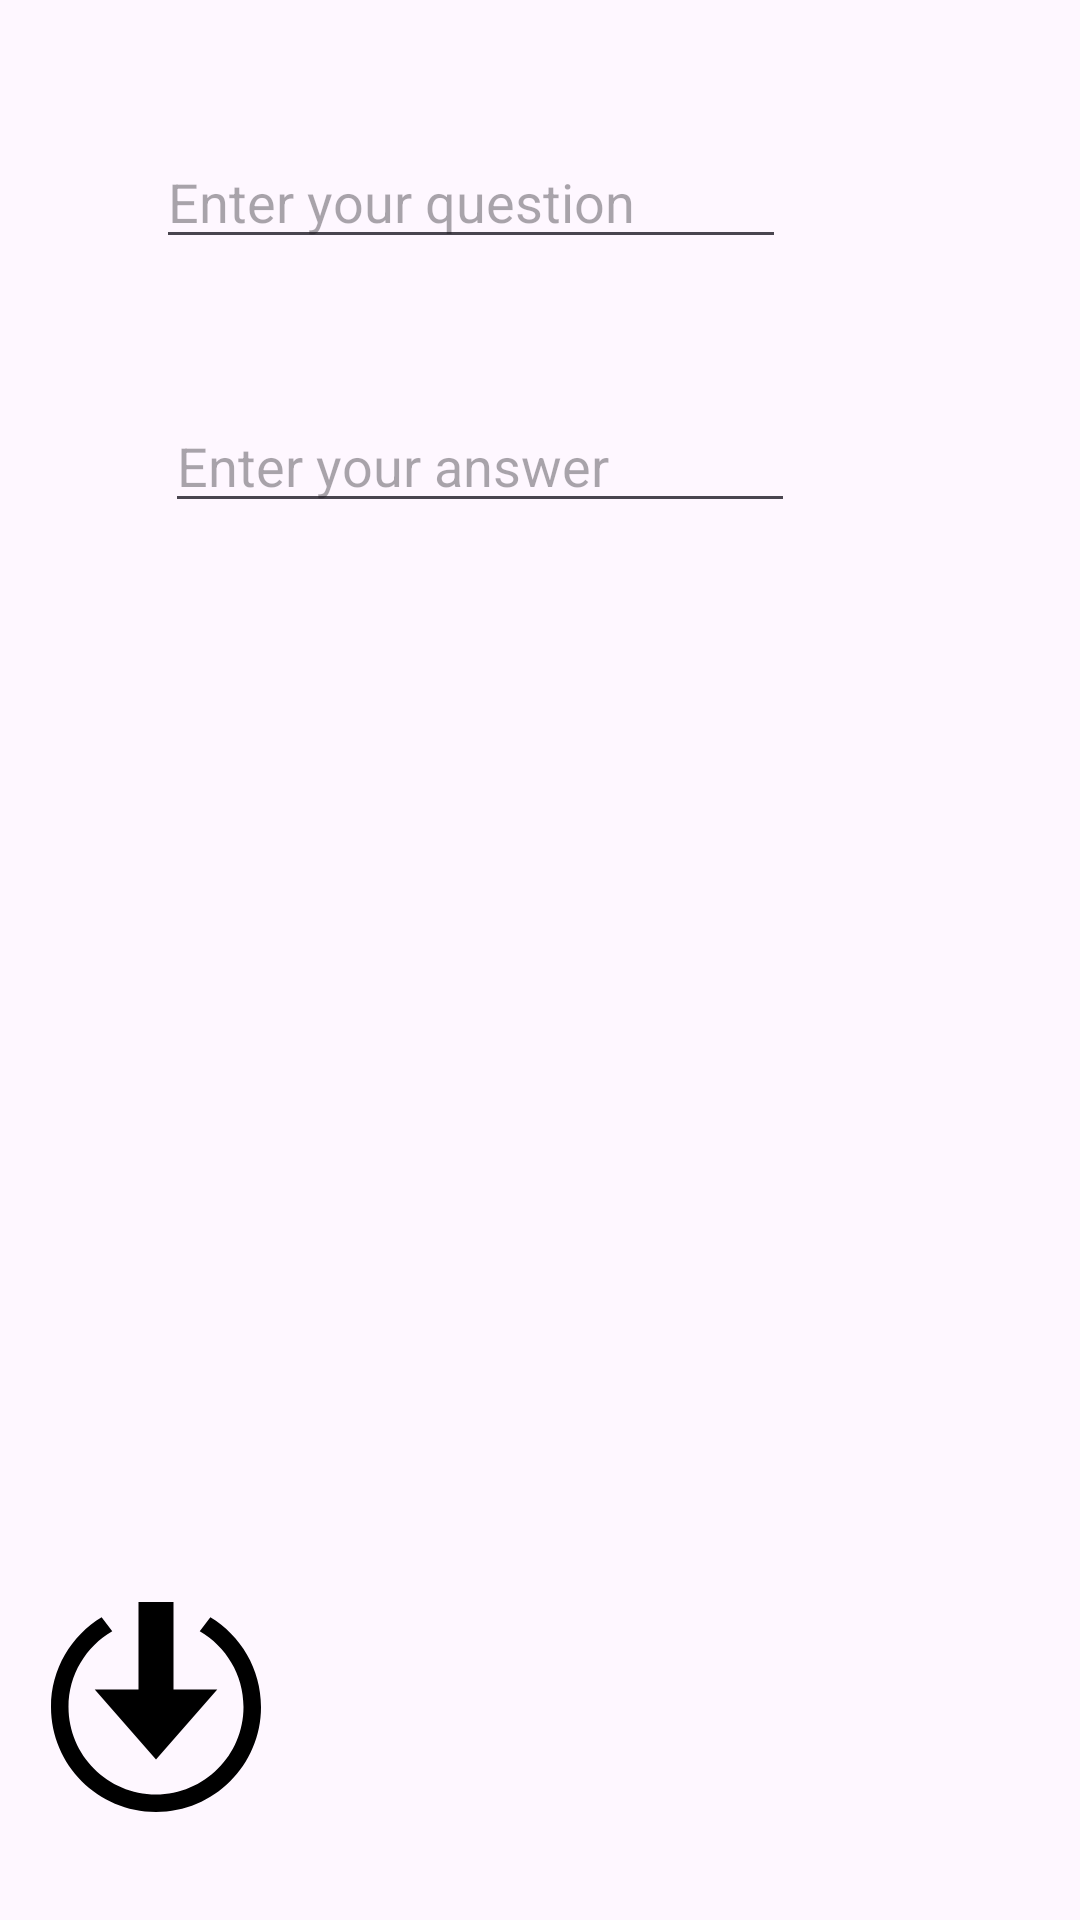

Screen size 1080x1920. Icon name, then its center in pixels as [x,y]:
save: [156,1707]
